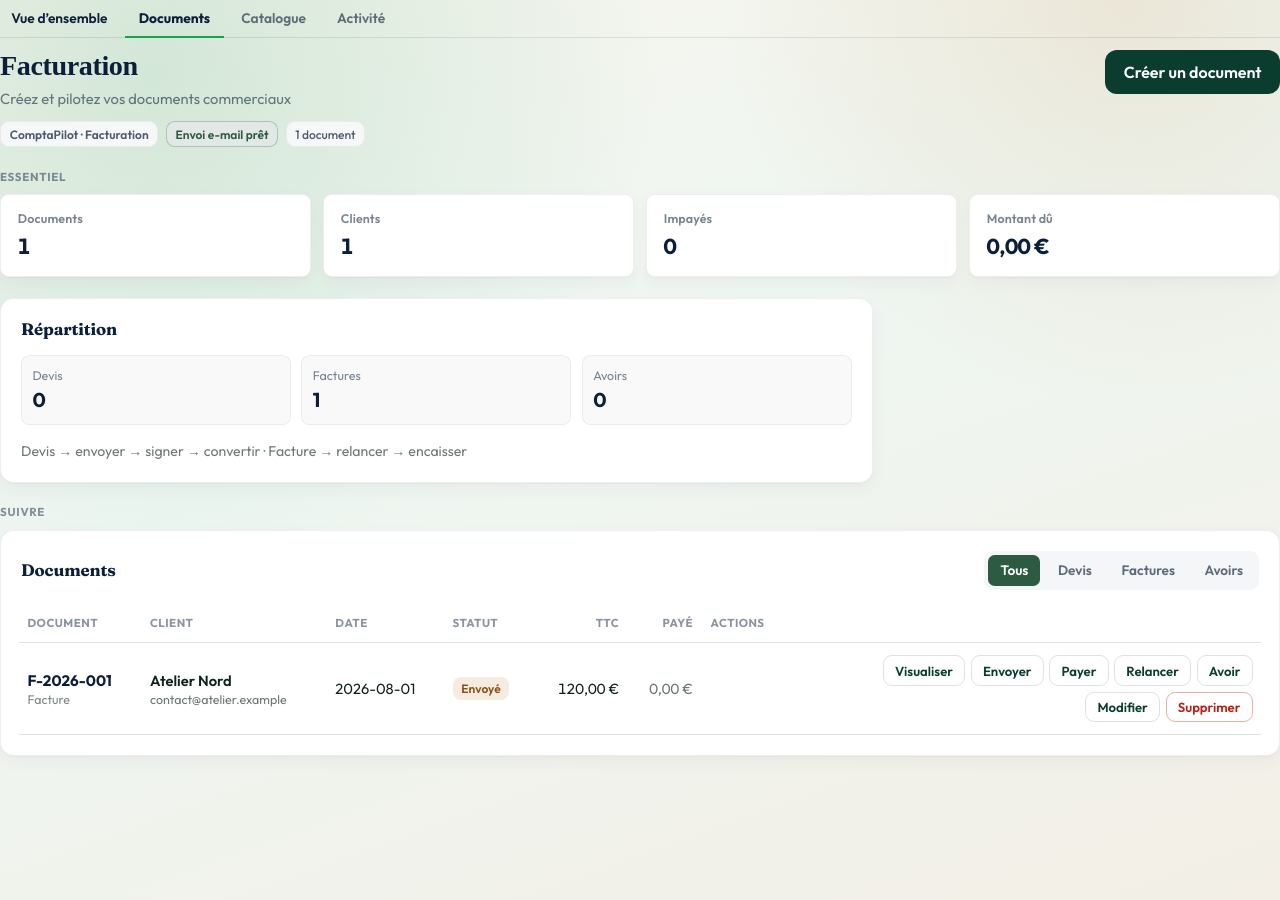
it: UXF01–UXF10 Nav & Documents entry › UXF07 — CTA ouvre pop-in (pas navigation Composer)
The image size is (1280, 900).
Click the button "Créer un document" at (1193, 72), box [1105,50,1279,94]
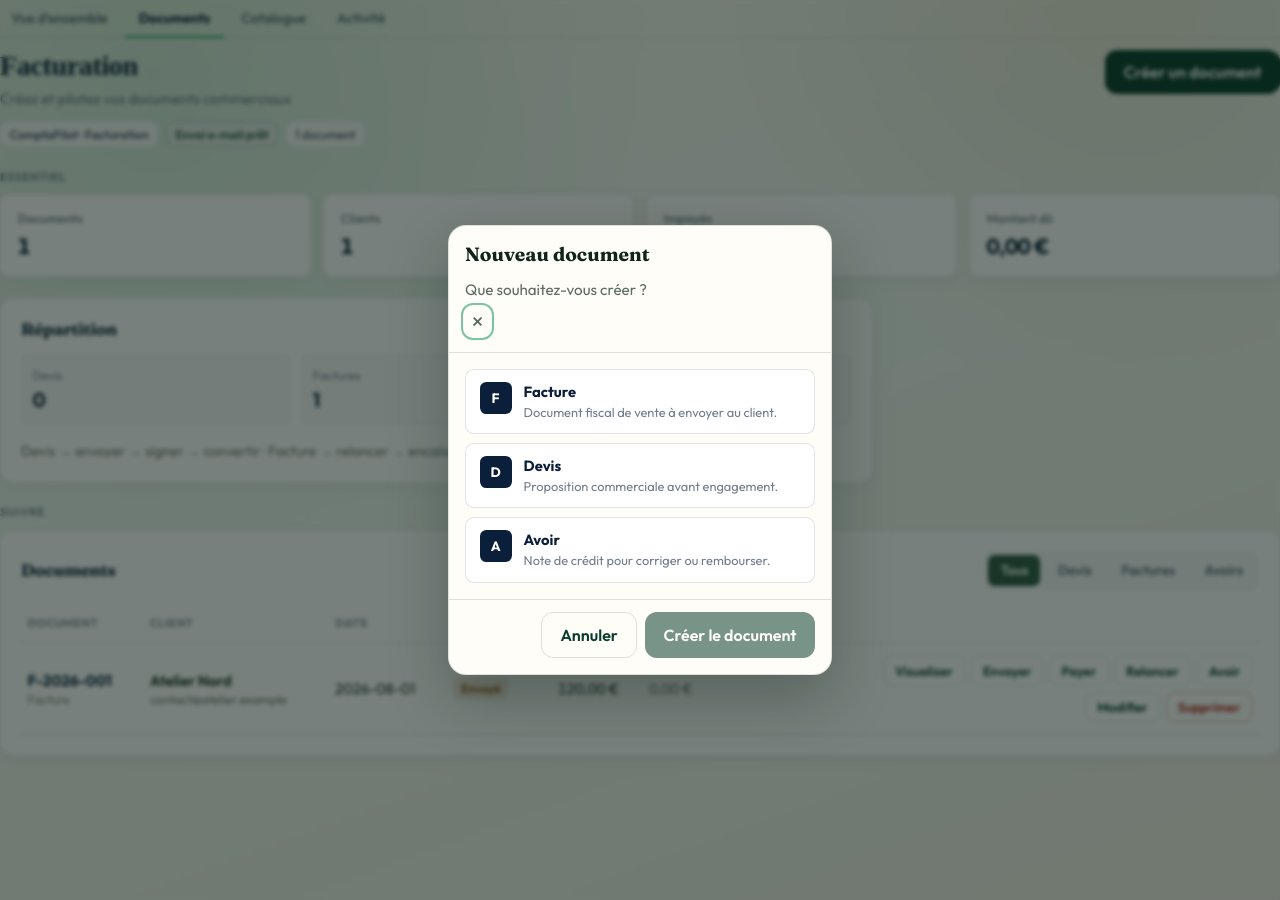
Expected: the dialog is shown, [448,225,832,675]
Expected: the text "Que souhaitez-vous créer ?" is shown, [465,280,647,299]
